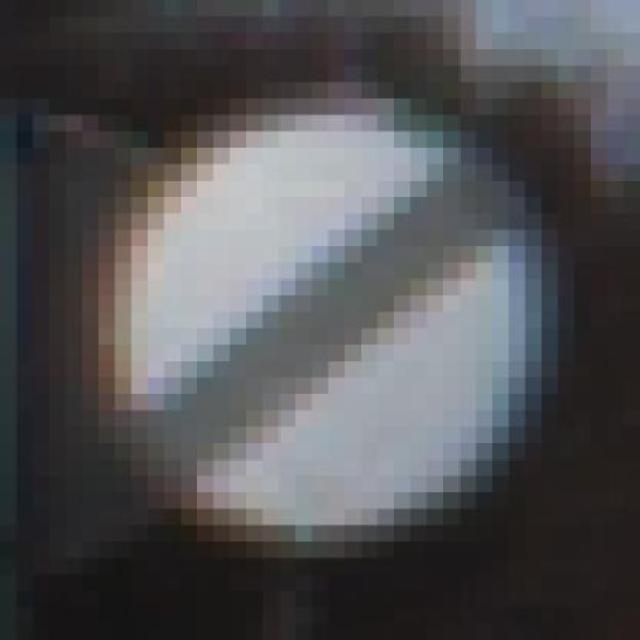End of all speed and passing limits: (98, 81, 574, 558)
